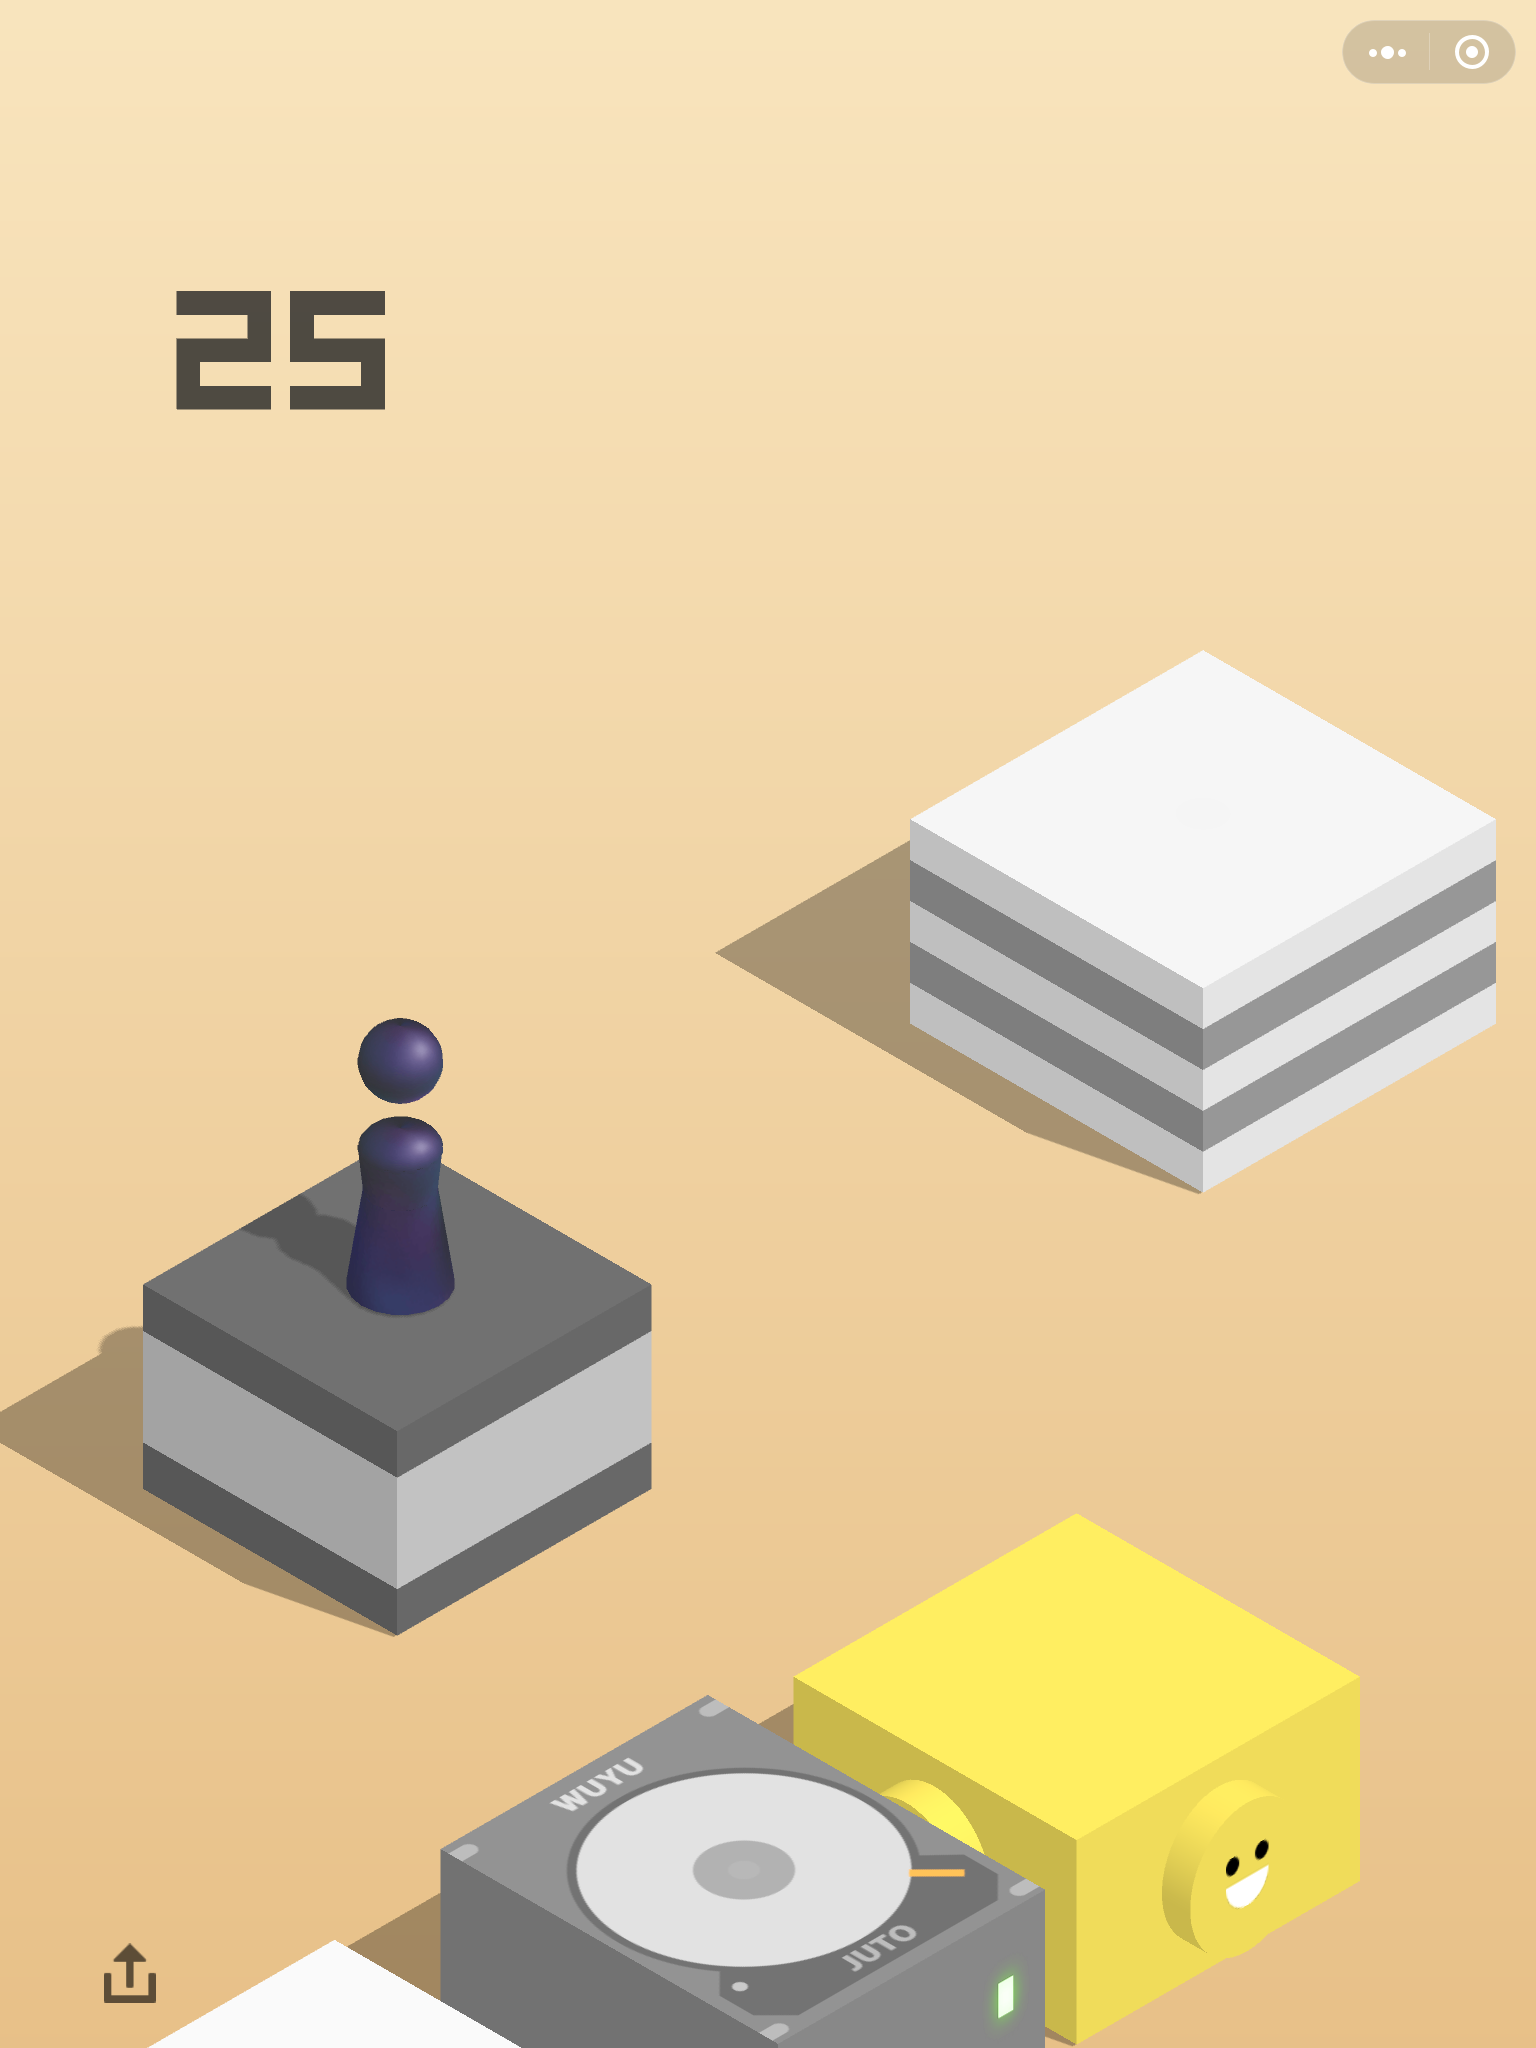f: (899, 642, 1512, 1203), (781, 1505, 1376, 2048), (131, 1129, 671, 1645), (436, 1695, 1050, 2048)
r: (342, 1008, 468, 1322)
